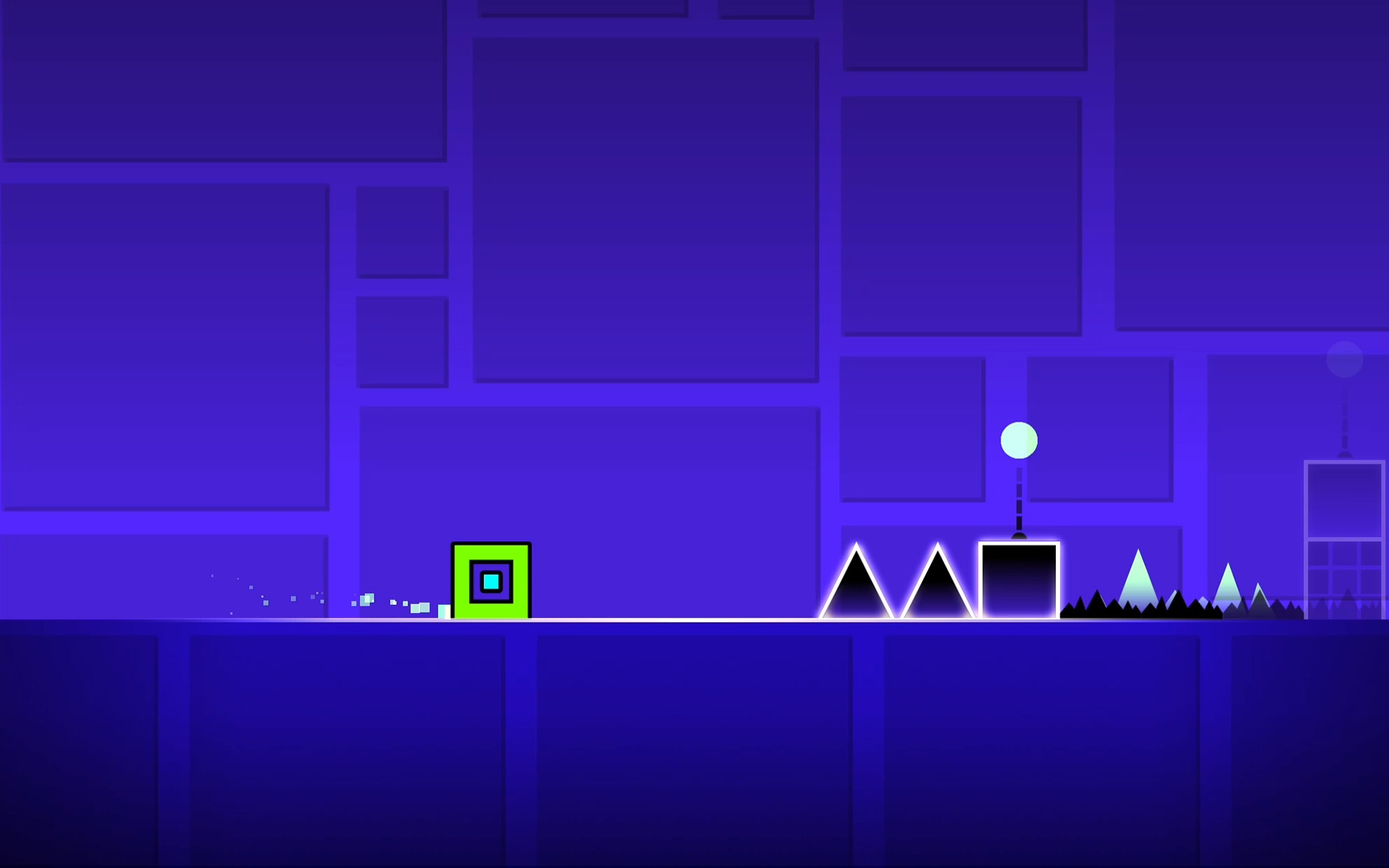Block: (975, 540, 1062, 618), (1307, 460, 1387, 538)
Block2: (1306, 539, 1388, 617)
Player: (450, 542, 532, 617)
Spike: (818, 543, 894, 617), (901, 543, 976, 617)
Spike3: (1061, 587, 1306, 620)
